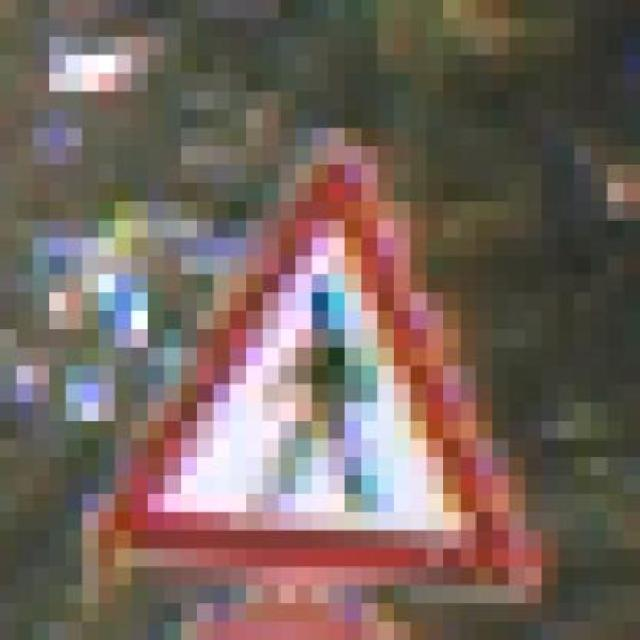Pedestrian Crossing: (65, 124, 558, 582)
